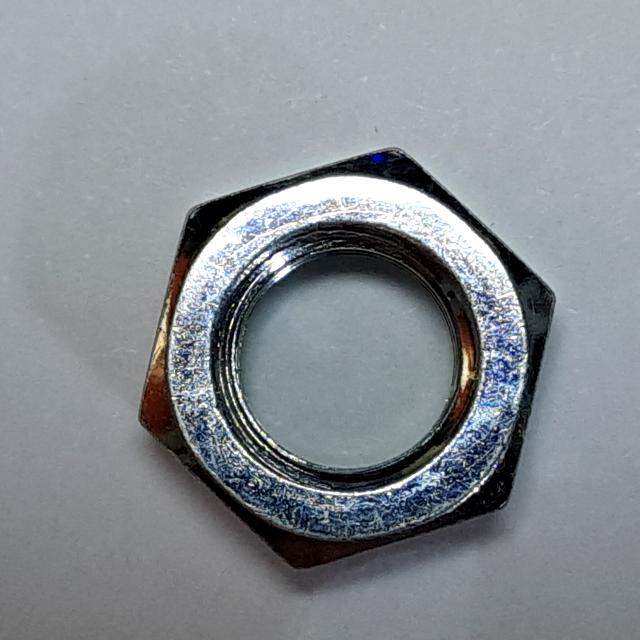Excellent: (126, 132, 563, 584)
